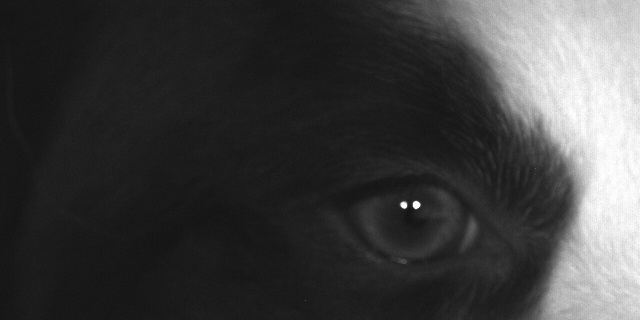iris: (328, 184, 495, 264)
